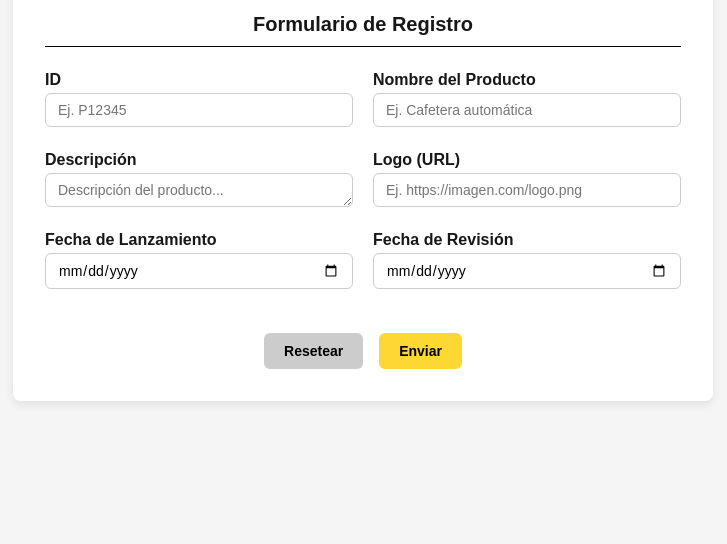
Test case: ProductForm › debe mostrar errores si los campos son inválidos
In the field labelled "ID": [199, 110] box [45,93,353,127], type "12"
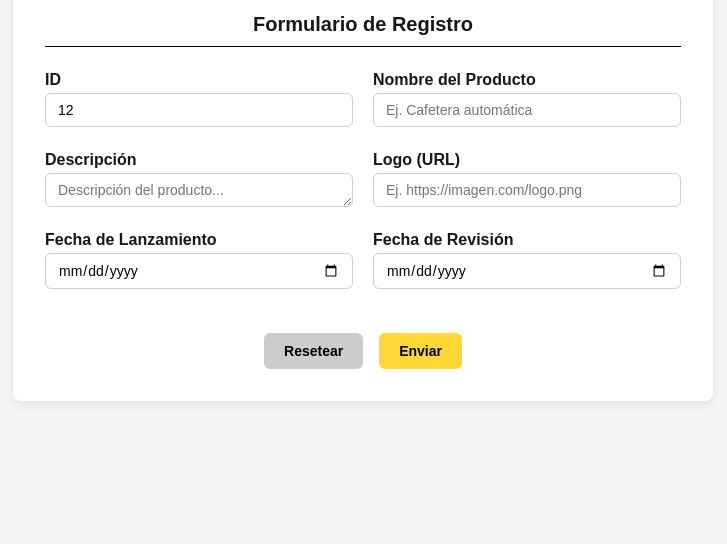
In the field labelled "Logo (URL)": [527, 190] box [373,173,681,207], type "bad-url"
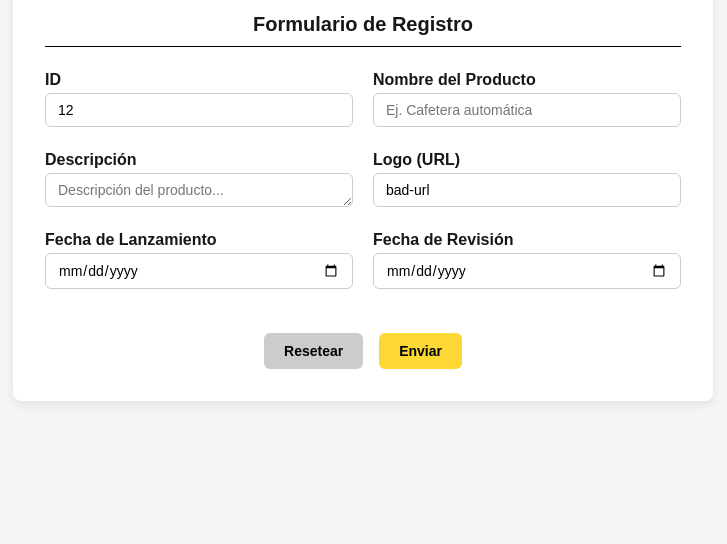
Click the button "Enviar": [421, 351] box [379,333,462,369]
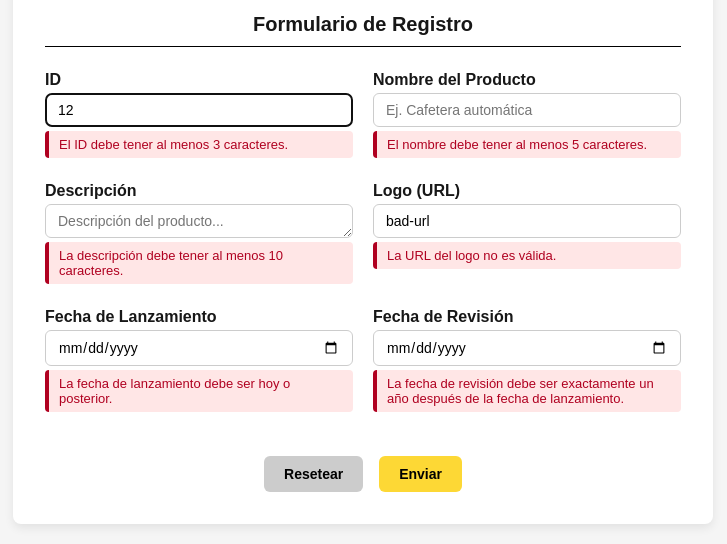
Check: the text "El ID debe tener al menos 3 caracteres." is shown, box [45,131,353,158]
Check: the text "El nombre debe tener al menos 5 caracteres." is shown, box [373,131,681,158]
Check: the text "La descripción debe tener al menos 10 caracteres." is shown, box [45,242,353,284]
